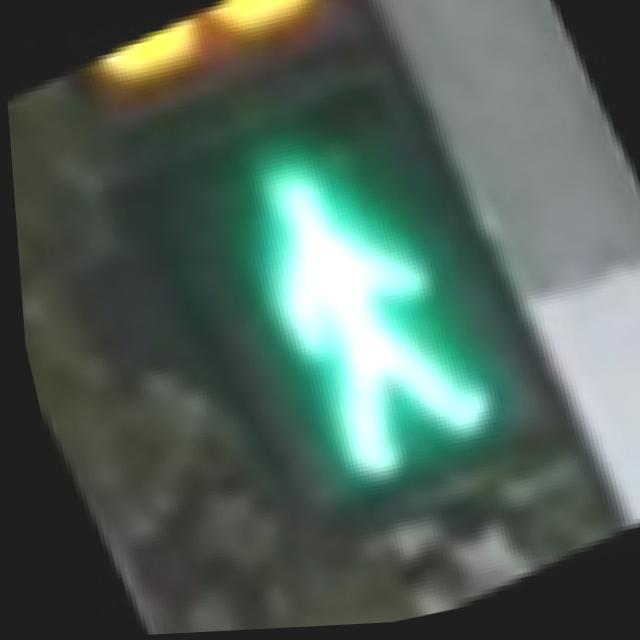green_light: (112, 30, 576, 578)
